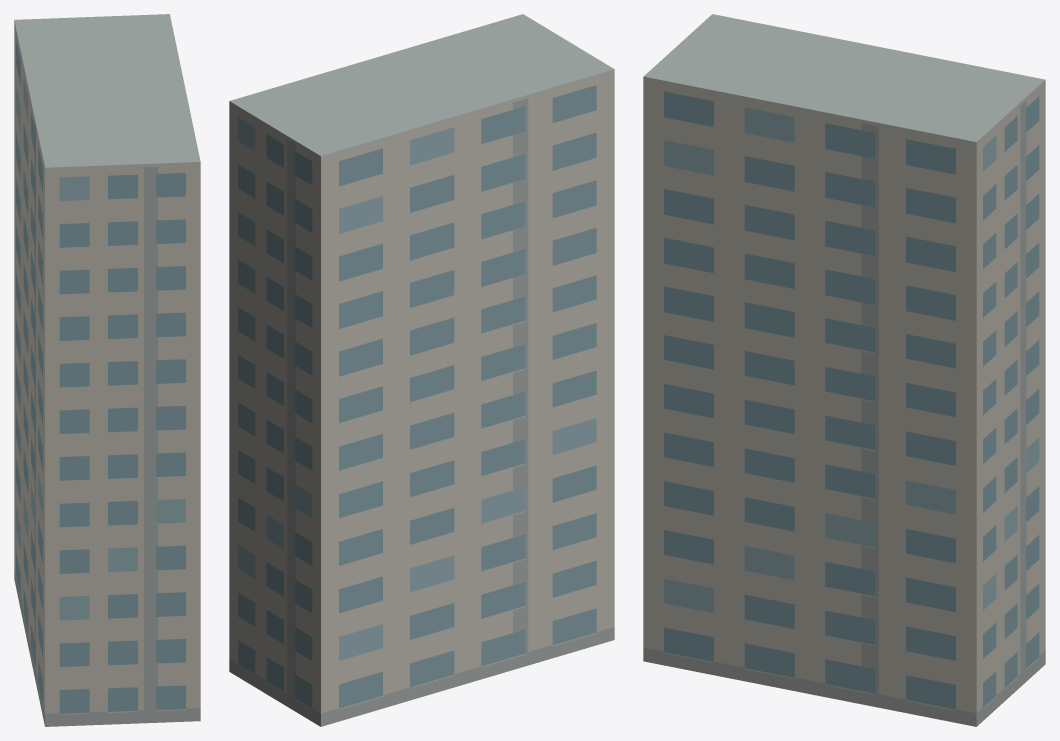
The model's file is residential-c18a084c-b13b-4559-b270-61b84f4475c8.glb.
The picture shows the model from 3 angles, left to right: view 1: azimuth 30°, elevation 25°; view 2: azimuth 150°, elevation 25°; view 3: azimuth 270°, elevation 25°; orthographic projection. The views are drawn at different scales.
Parts seen in each view (by area): view 1: residential-c18a084c-b13b-4559-b270-61b84f4475c8.tmp; view 2: residential-c18a084c-b13b-4559-b270-61b84f4475c8.tmp; view 3: residential-c18a084c-b13b-4559-b270-61b84f4475c8.tmp.
Boxes of the visible parts, x1=… form: residential-c18a084c-b13b-4559-b270-61b84f4475c8.tmp: x1=14, y1=14, x2=200, y2=726; residential-c18a084c-b13b-4559-b270-61b84f4475c8.tmp: x1=229, y1=14, x2=614, y2=726; residential-c18a084c-b13b-4559-b270-61b84f4475c8.tmp: x1=643, y1=14, x2=1045, y2=726.
Bounding box in the file's own units: 18.81 × 40 × 24.94.
